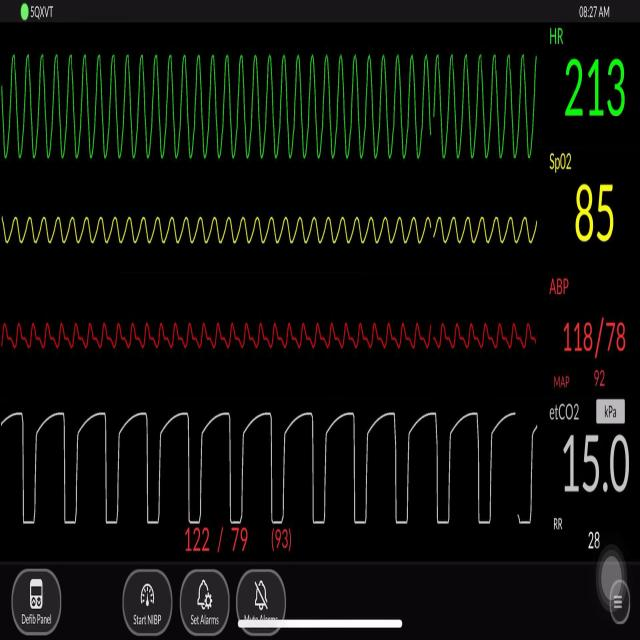danger: (0, 45, 540, 159)
